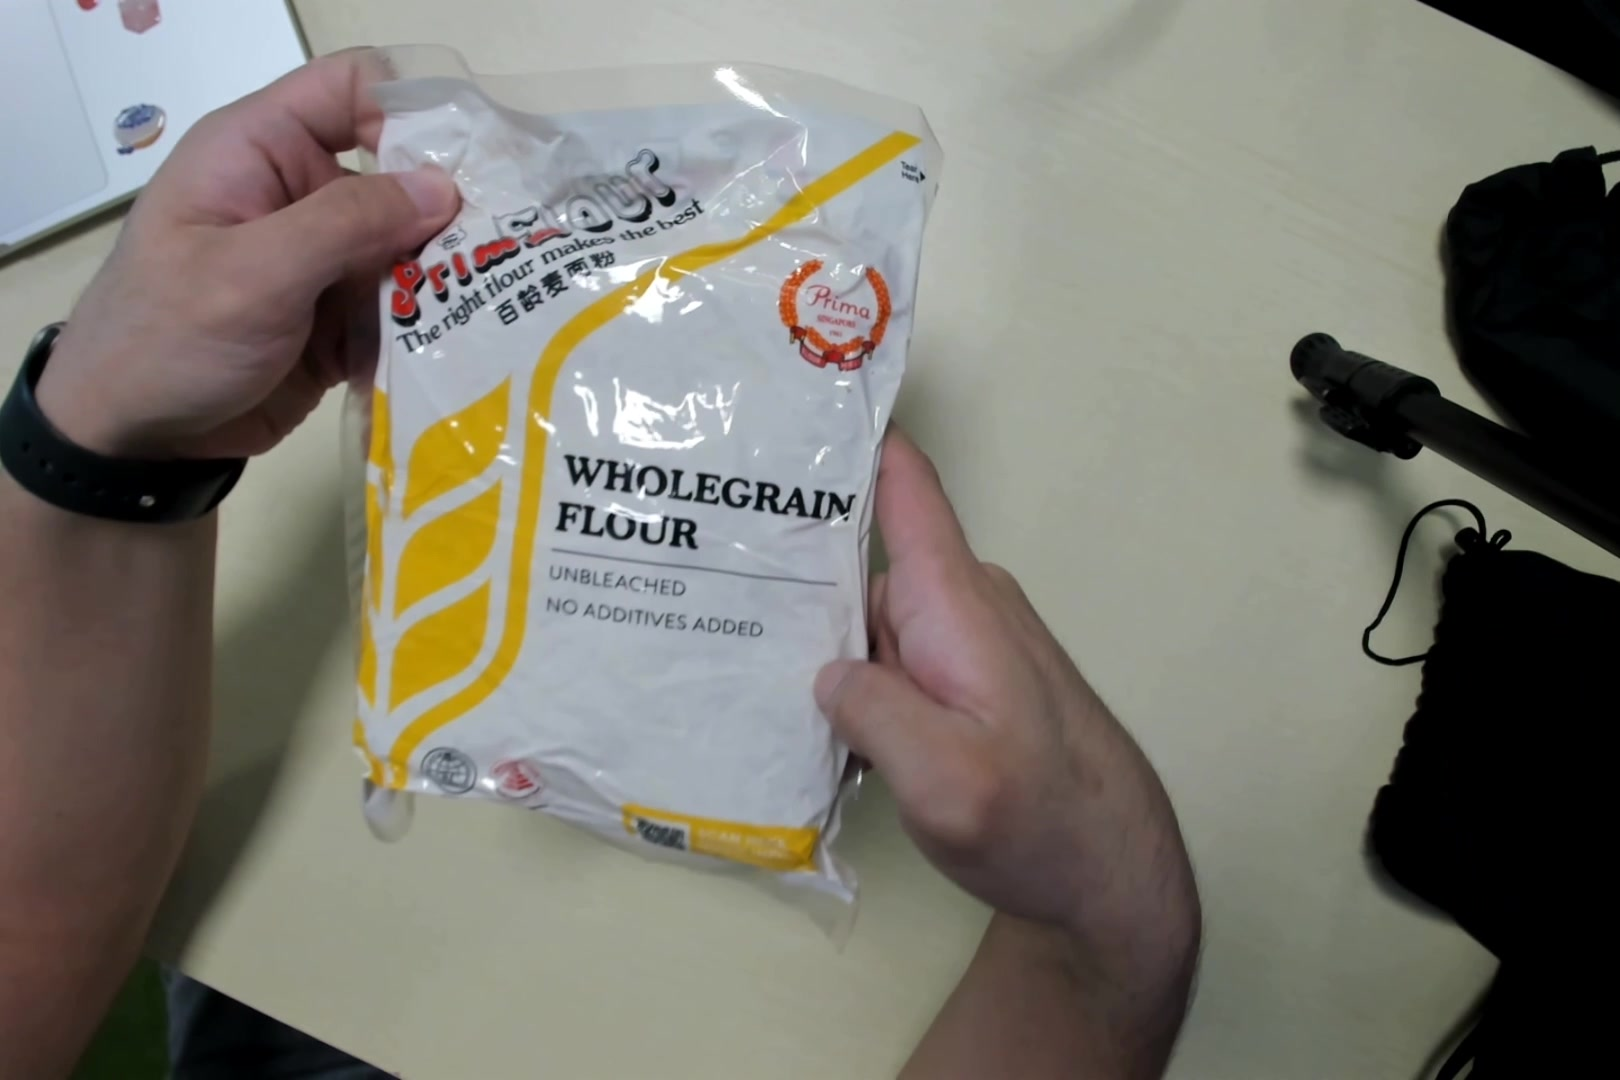OtherBakingNeeds_400-499g_Halal_NonHealthy: (342, 36, 935, 893)
